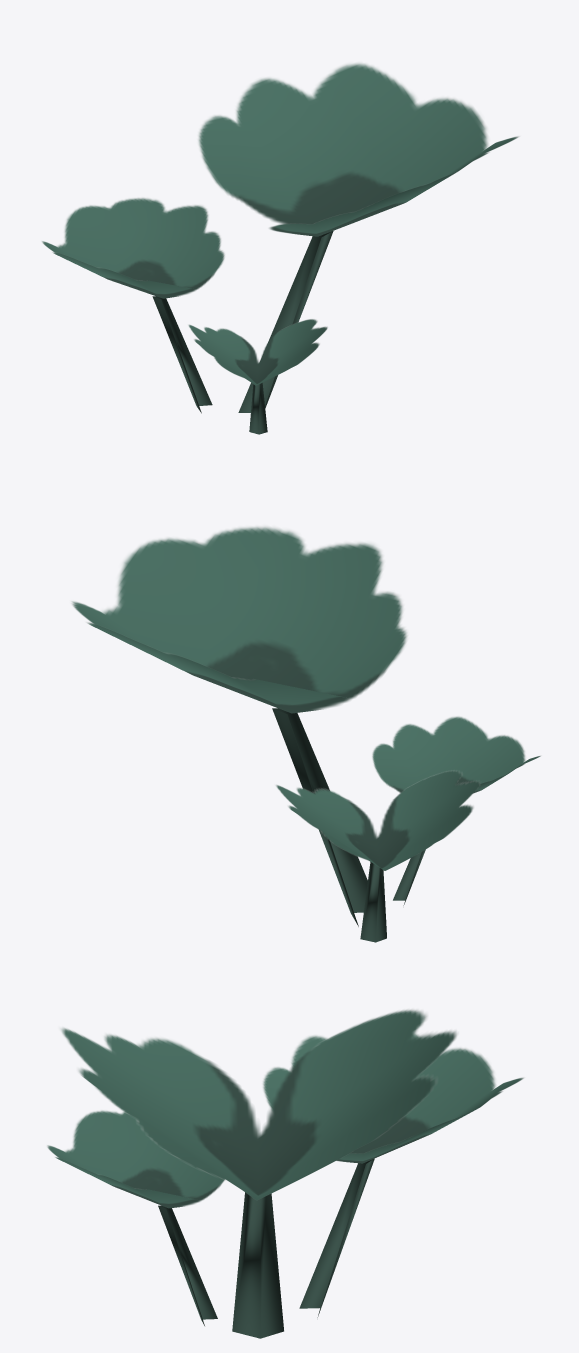
File: env_plant3_painty_01_v1.glb
3 views of the same model, one above another, from view 1: azimuth 30°, elevation 25°; view 2: azimuth 150°, elevation 25°; view 3: azimuth 270°, elevation 25° (orthographic). The views are drawn at different scales.
Parts seen in each view (by area): view 1: grass_plane.026; view 2: grass_plane.026; view 3: grass_plane.026.
Part boxes in pixels (x1,y1,x2,y2): grass_plane.026: (41, 62, 519, 434); grass_plane.026: (71, 525, 540, 942); grass_plane.026: (47, 1009, 524, 1338).
Bounding box in the file's own units: 0.6223 × 0.4103 × 0.5275.
1 material, 1 textured.
